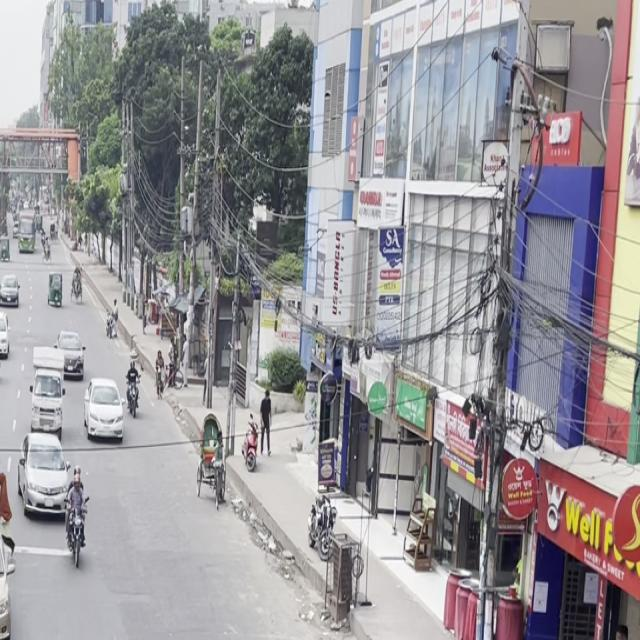car: (16, 422, 74, 530), (81, 369, 126, 452), (0, 512, 19, 640), (306, 639, 469, 640)
motorbike: (58, 460, 96, 575), (122, 360, 144, 425)
rickshaw: (0, 312, 8, 388)
